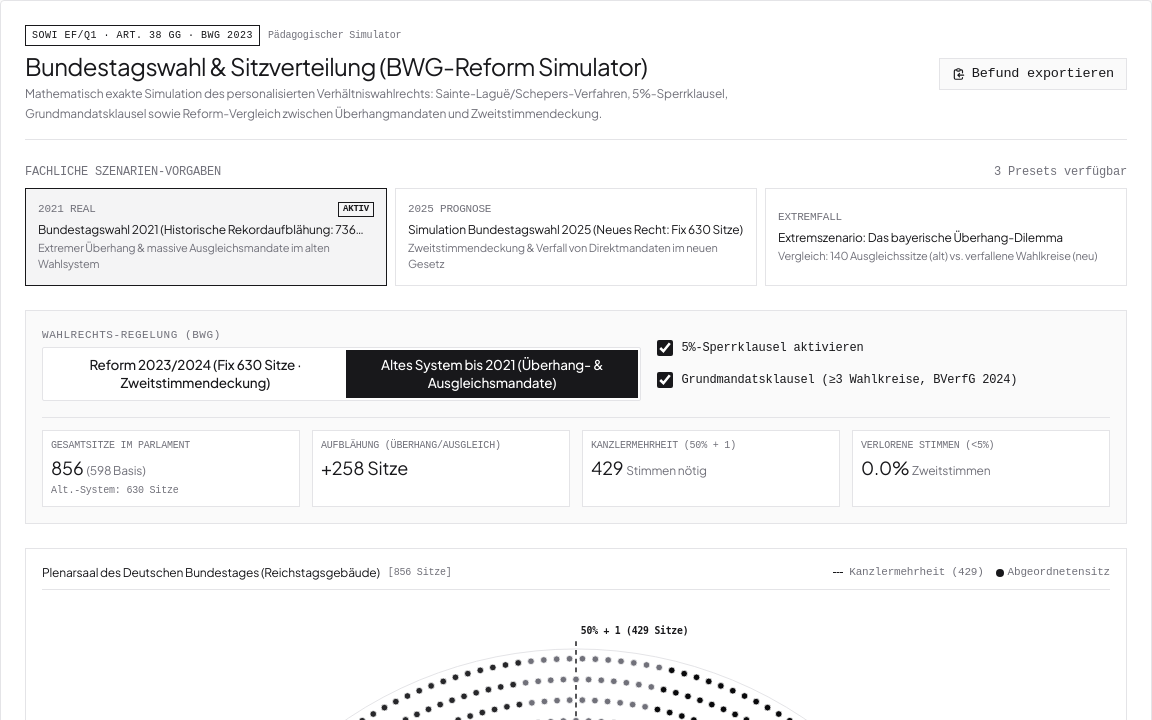
Test: WahlsystemSim (Bundestagswahl & Sitzverteilung) › UI-Rendering & Interaktionen › erlaubt das Umschalten zwischen den Wahlsystem-Regelungen
# Klick auf neues Wahlsystem
Click the button "Reform 2023/2024 (Fix 630 Sitze · Zweitstimmendeckung)" at (195, 374), box [45,350,346,398]
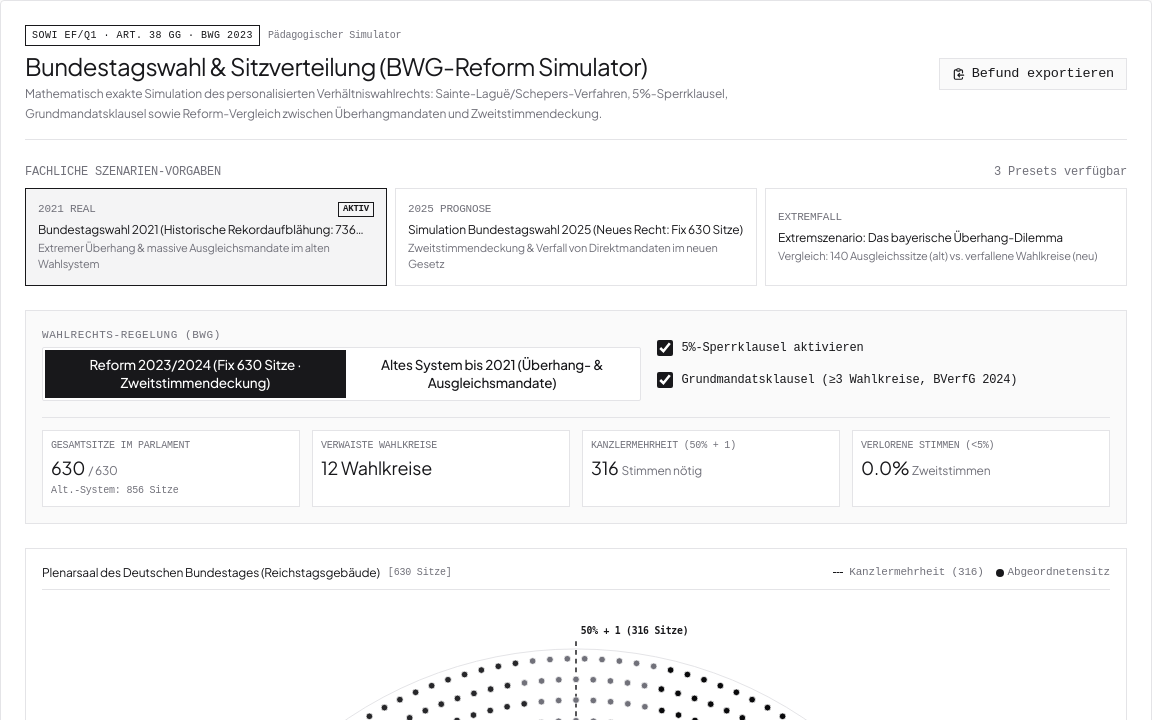
Expected: the text "GESAMTSITZE IM PARLAMENT" is shown, [51,440,190,451]
# Klick zurück auf altes System
Click the button "Altes System bis 2021 (Überhang- & Ausgleichsmandate)" at (492, 374), box [346,350,638,398]
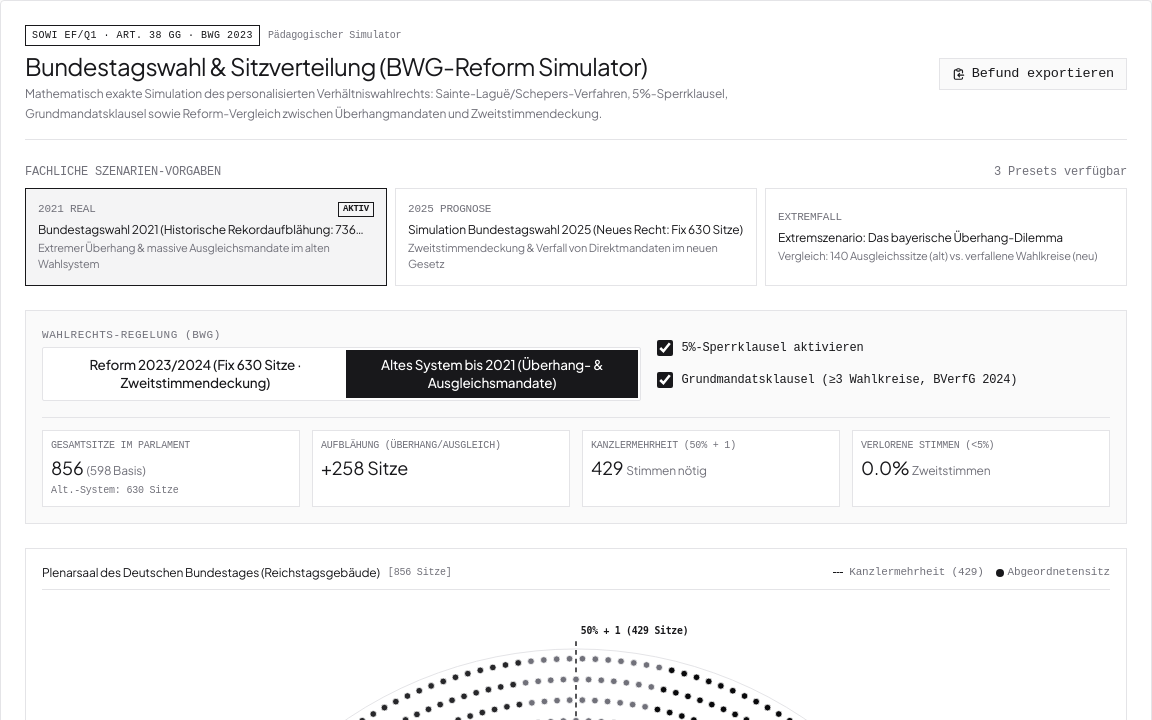
Result: the text "AUFBLÄHUNG (ÜBERHANG/AUSGLEICH)" is shown at [321,440,501,451]
